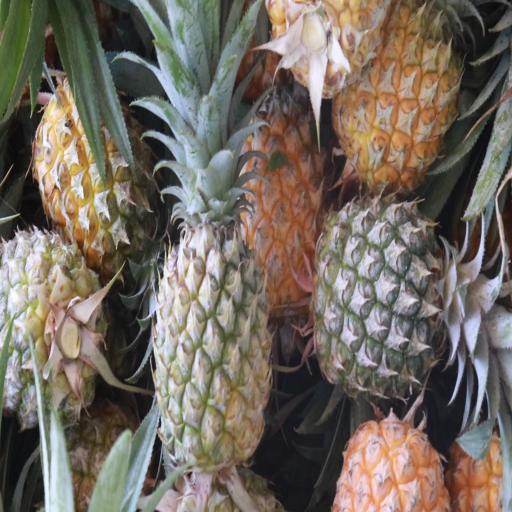------------------------------: (35, 62, 152, 261), (0, 236, 104, 428)
Pineapple - v8 v1: (333, 5, 461, 182), (235, 97, 323, 312), (328, 409, 450, 512)
